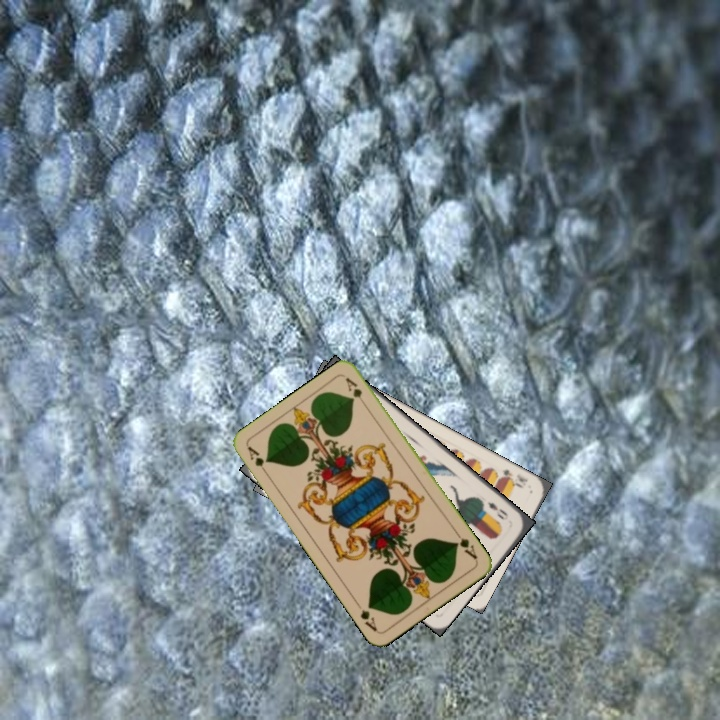E10: (493, 465, 530, 491)
EO: (483, 498, 511, 523)
GA: (451, 527, 480, 562), (244, 442, 271, 478)
